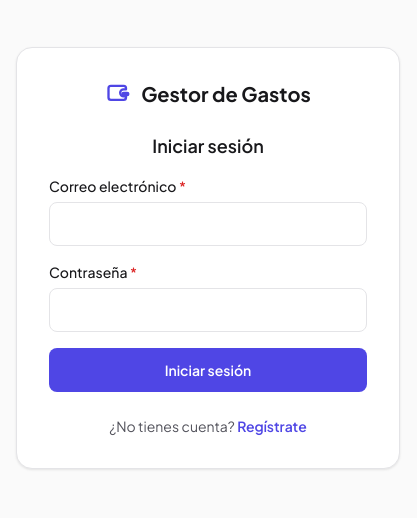
Test: LoginView › shows the generic credentials error banner on a 401 response
Type "ana@mail.com" into the field labelled "Correo electrónico *" at (208, 224), box [49,202,367,246]
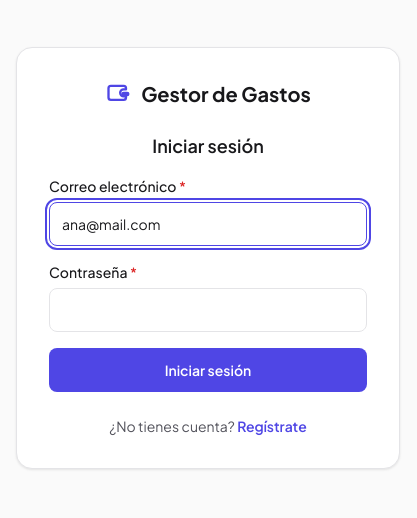
Type "wrong-pass" into the password field labelled "Contraseña *" at (208, 310), box [49,288,367,332]
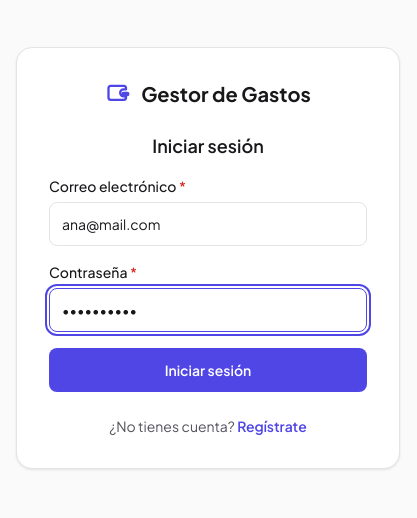
Click the button "Iniciar sesión" at (208, 370), box [49,348,367,392]
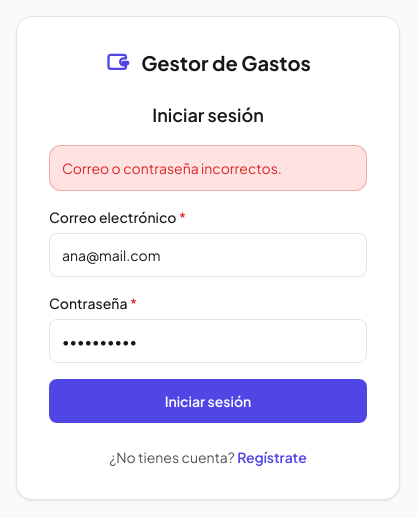
Now the message reads "Correo o contraseña incorrectos.", box [62,159,282,177]
